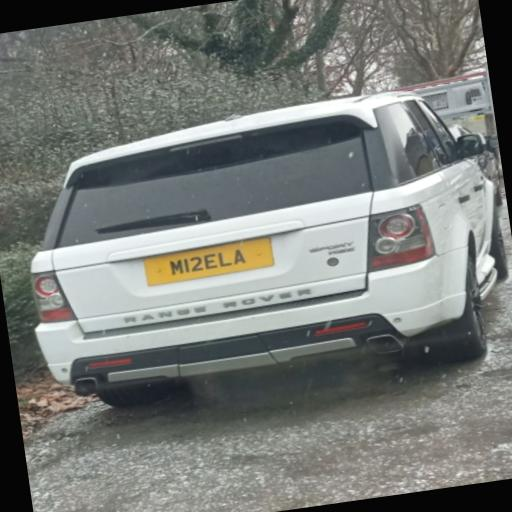numberplates: (144, 238, 273, 286)
